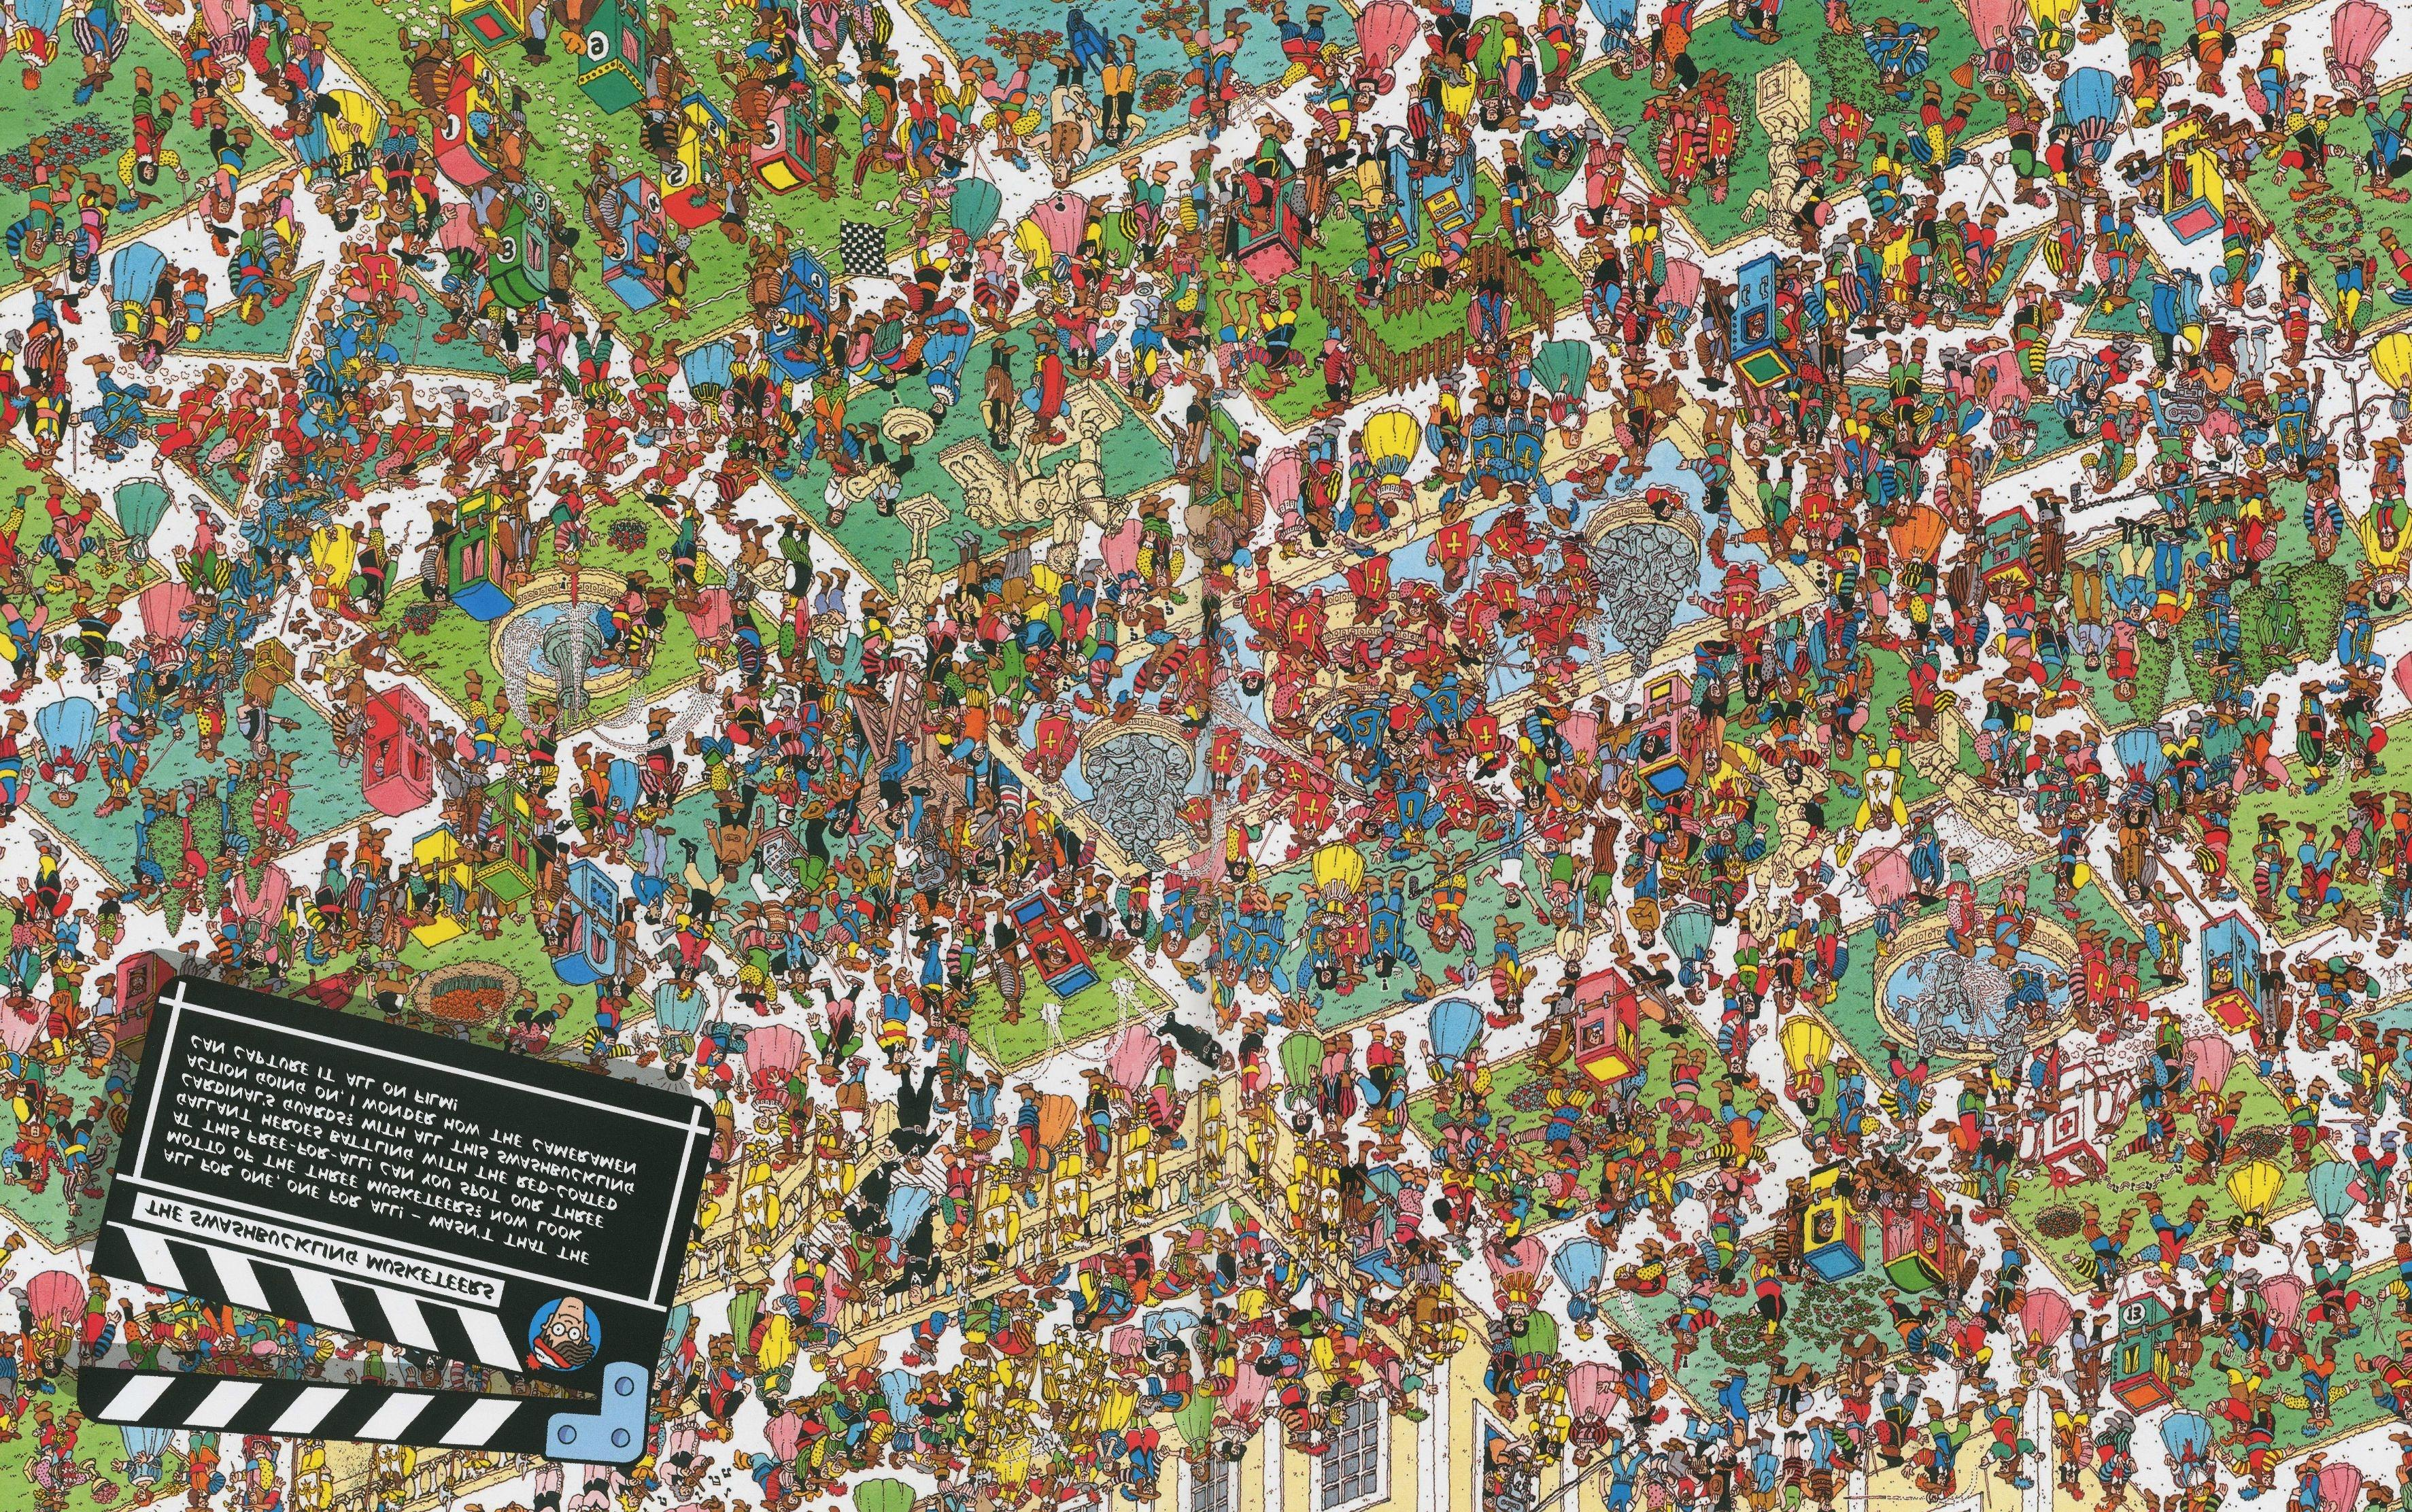waldos: (1257, 277, 1283, 317)
